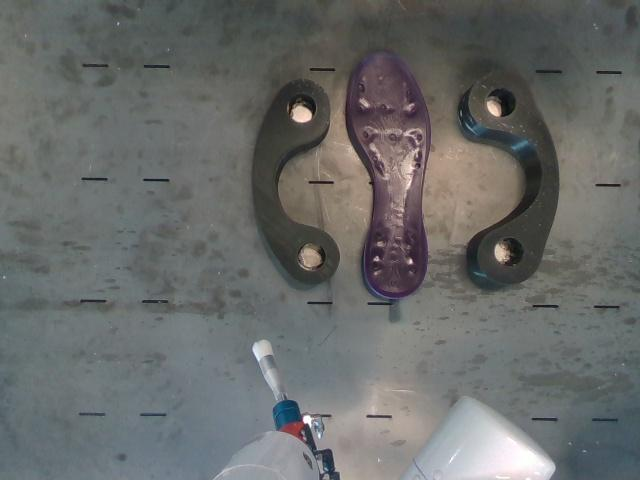shoes: (347, 51, 431, 298)
